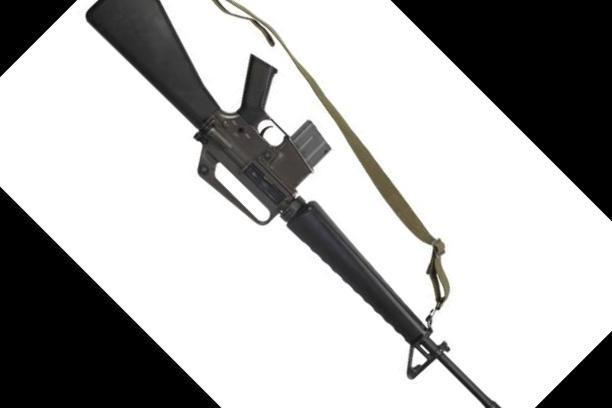larga: (86, 0, 501, 408)
